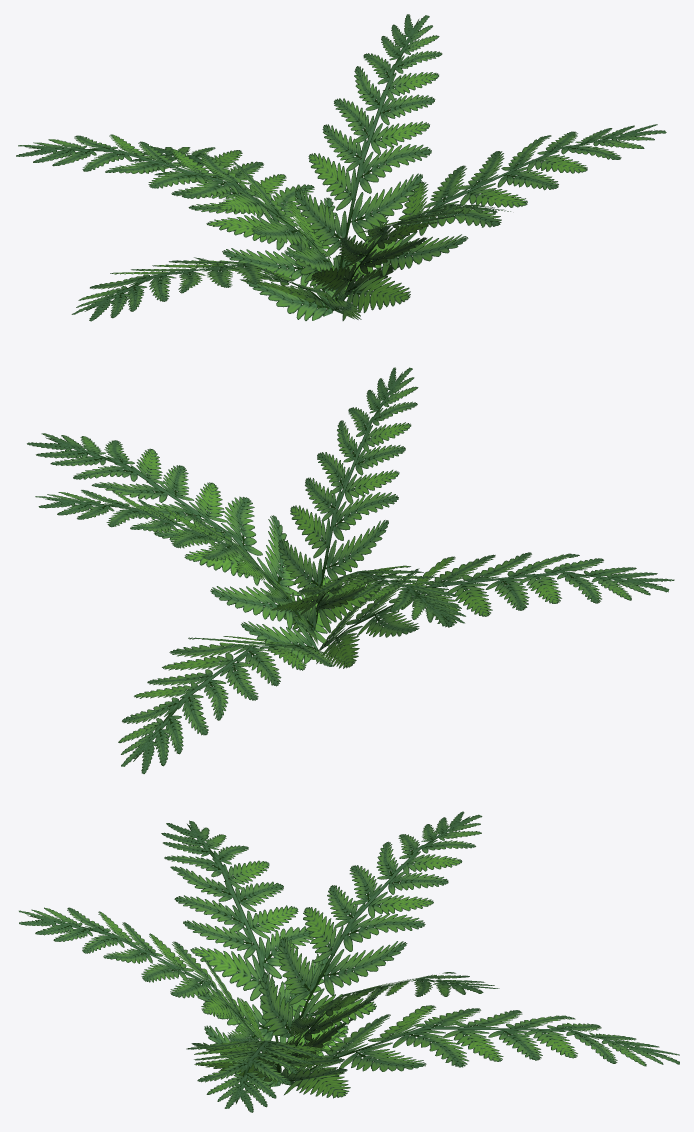
File: Fern.fbx
3 views of the same model, one above another, from view 1: azimuth 30°, elevation 25°; view 2: azimuth 150°, elevation 25°; view 3: azimuth 270°, elevation 25° (orthographic). The views are drawn at different scales.
Visible parts, largest first — view 1: Fern; view 2: Fern; view 3: Fern.
Boxes of the visible parts, left/top/right/bottom form: Fern: left=16, top=14, right=666, bottom=321; Fern: left=27, top=367, right=674, bottom=773; Fern: left=19, top=811, right=679, bottom=1112.
Bounding box in the file's own units: 1.88 × 0.566 × 1.67.
